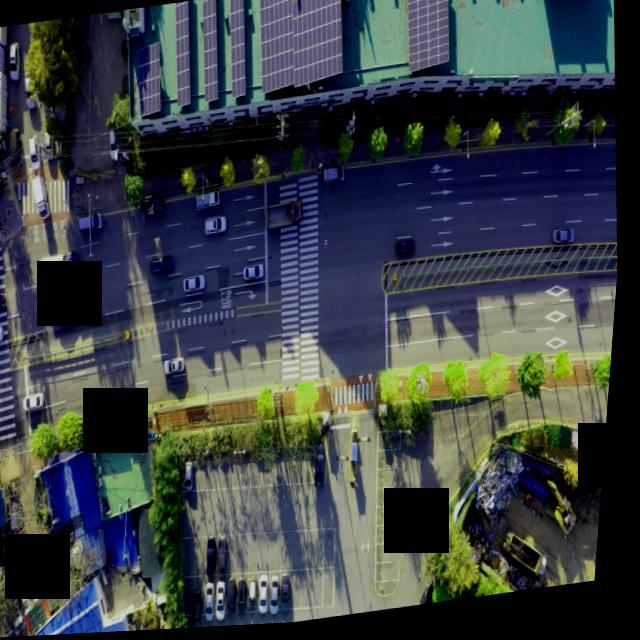car: (316, 445, 339, 491), (221, 581, 240, 625), (286, 575, 305, 618), (79, 210, 109, 237), (231, 579, 249, 621), (142, 195, 171, 221), (223, 536, 240, 578), (211, 538, 227, 582), (198, 588, 214, 630), (243, 578, 259, 619), (212, 583, 227, 624), (27, 390, 53, 413), (276, 578, 290, 618), (254, 577, 269, 614), (153, 256, 179, 277), (198, 193, 224, 214), (188, 459, 203, 495), (266, 579, 280, 617), (28, 136, 43, 171), (8, 44, 21, 83), (398, 242, 421, 264), (208, 217, 232, 236), (323, 168, 347, 187), (555, 233, 579, 252), (76, 277, 99, 296), (60, 303, 83, 322), (187, 276, 209, 295), (247, 265, 269, 284), (168, 358, 190, 377), (0, 289, 15, 316), (0, 327, 11, 346)
small_truck: (263, 198, 310, 235), (30, 172, 57, 223), (40, 250, 83, 279)
